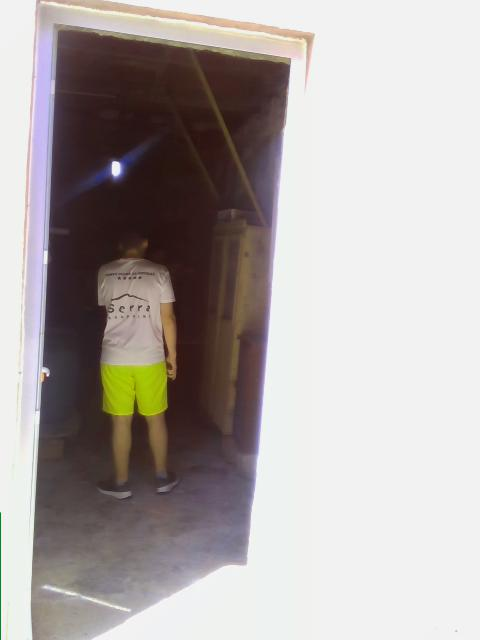open_door: (27, 18, 297, 639)
